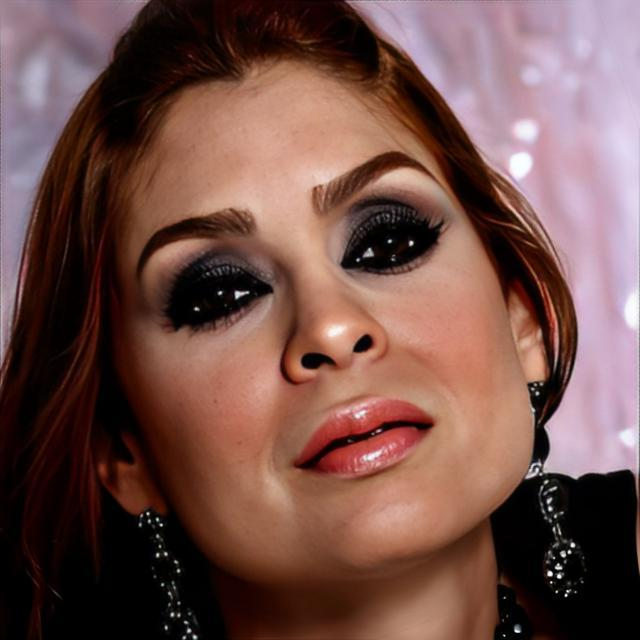neutral: (113, 32, 536, 579)
